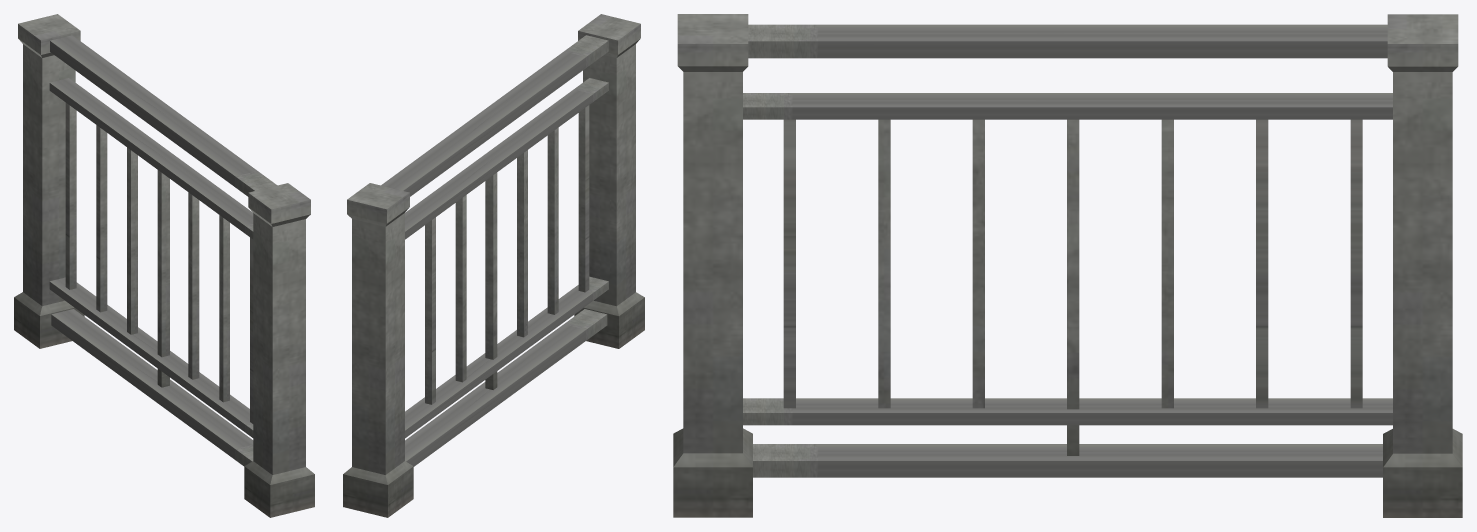
Rendered from Fence.fbx.
3 renders of one model, left to right at view 1: azimuth 30°, elevation 25°; view 2: azimuth 150°, elevation 25°; view 3: azimuth 270°, elevation 25°, orthographic. The views are drawn at different scales.
Parts seen in each view (by area): view 1: Railing; view 2: Railing; view 3: Railing.
Part boxes in pixels (x1,y1,x2,y2): Railing: [14, 14, 314, 517]; Railing: [343, 14, 644, 517]; Railing: [673, 14, 1462, 517].
Bounding box in the file's own units: 0.1751 × 1.14 × 1.72.
